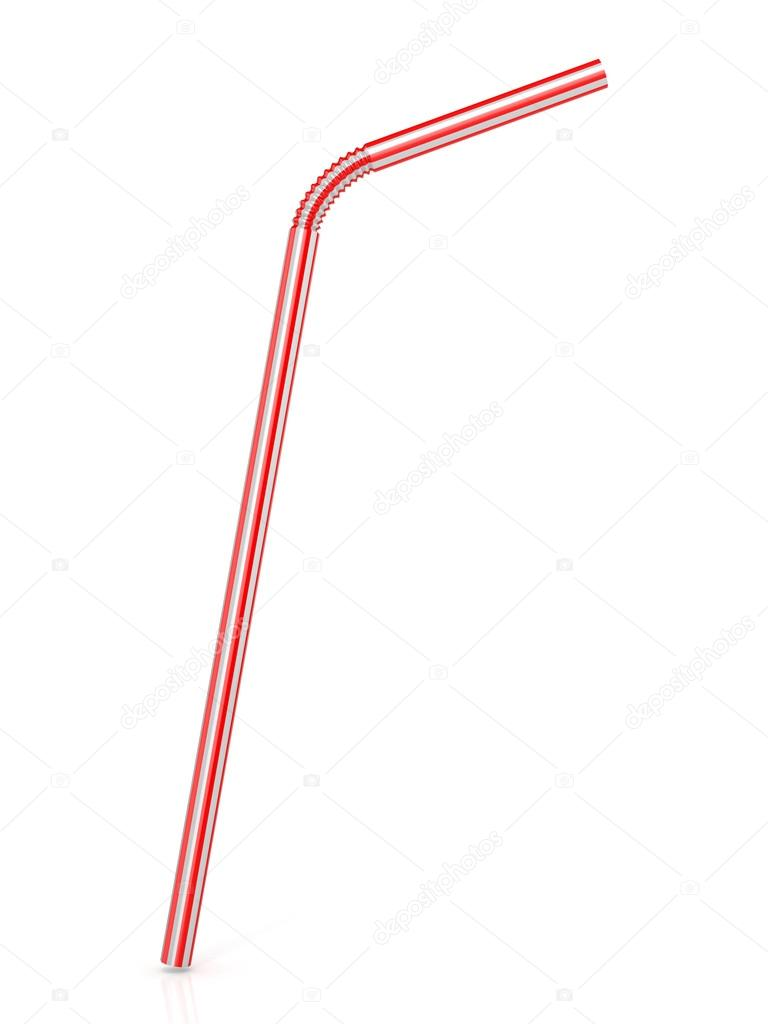Drinking Straw: (156, 51, 615, 975)
